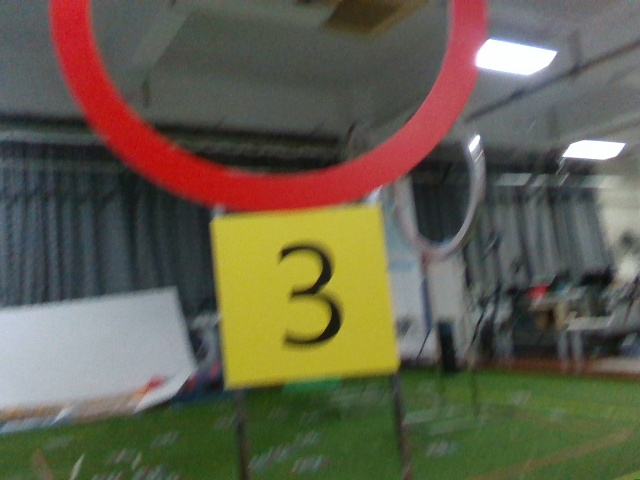target: (220, 214, 393, 381)
